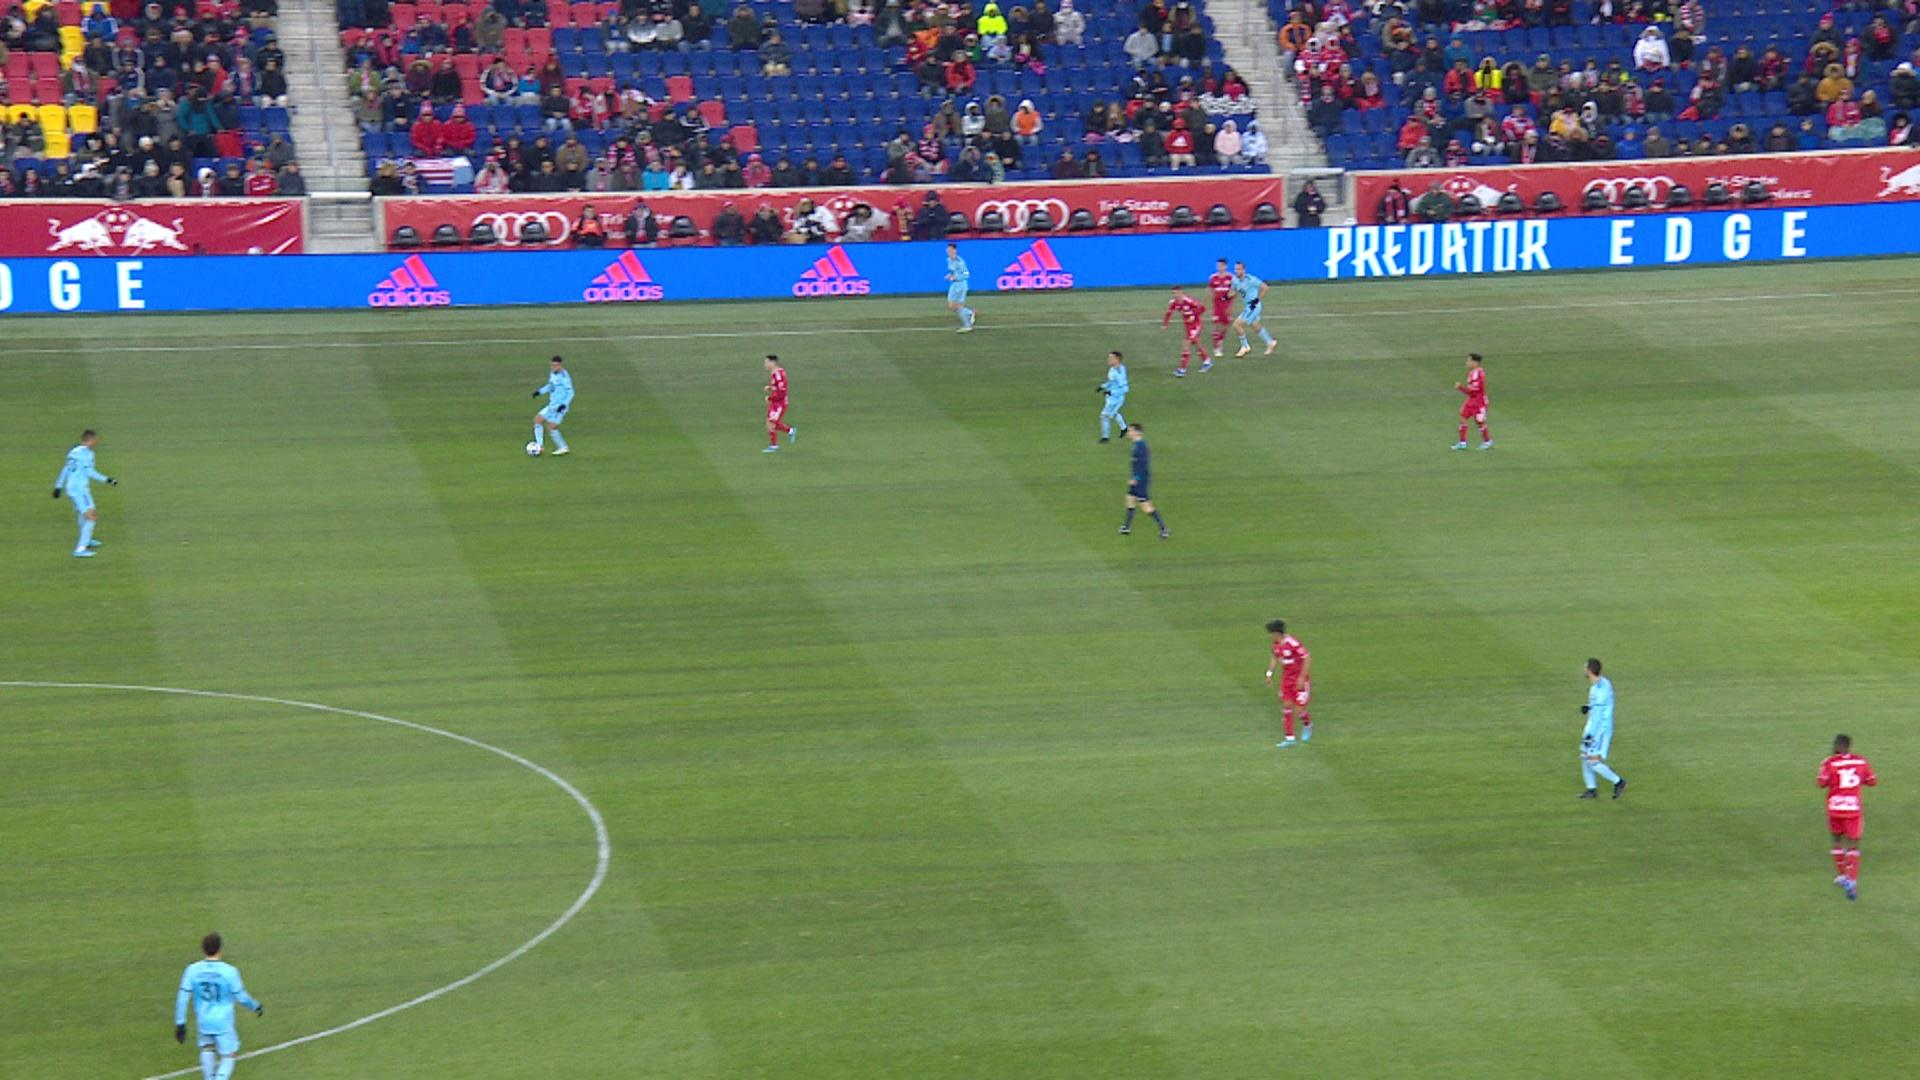football: (525, 439, 541, 456)
